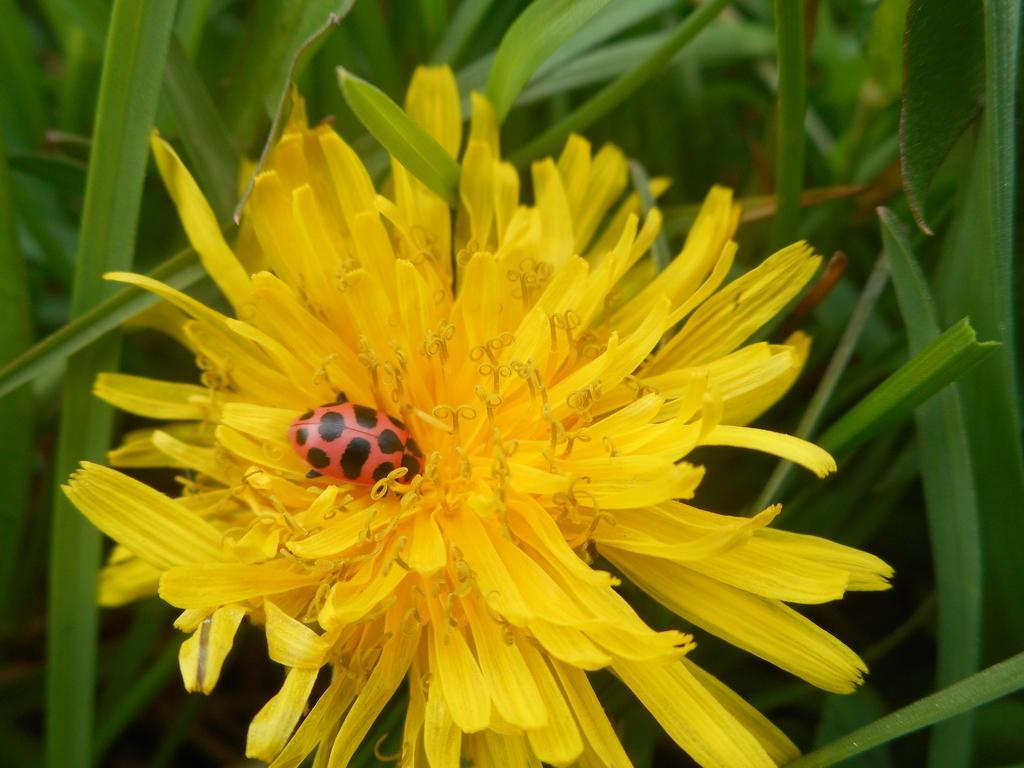ladybug: (287, 367, 429, 491)
